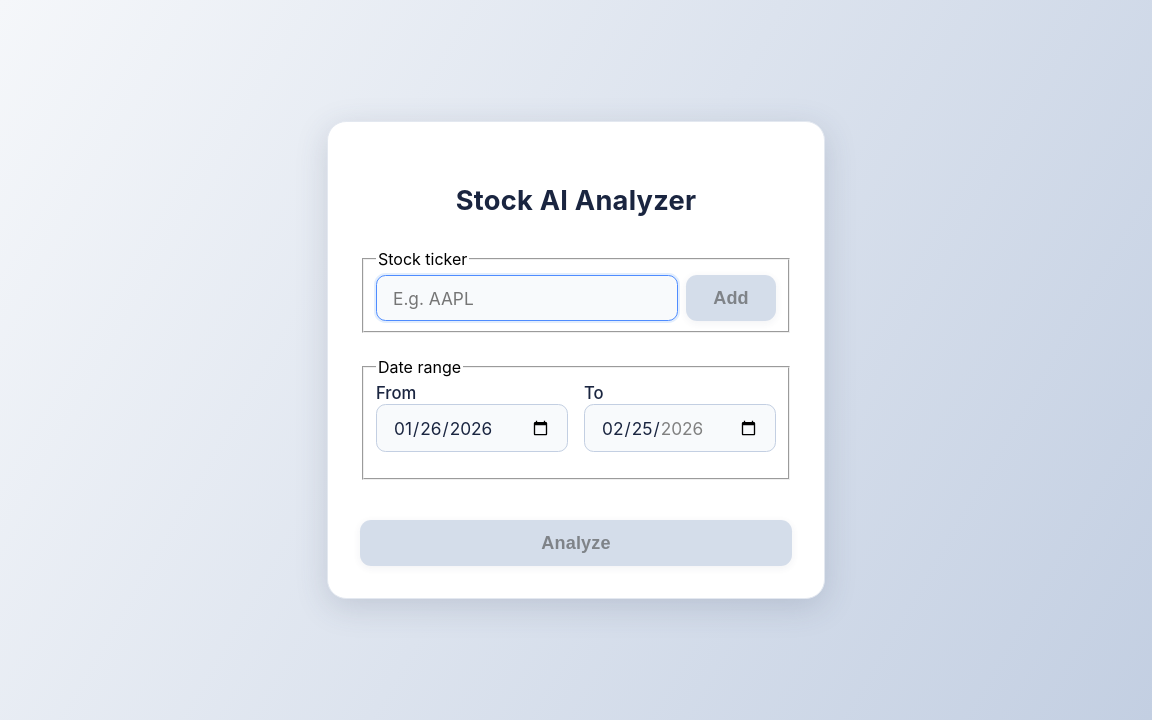
Test: App integration › shows error for invalid ticker
Type "123" into the field at (527, 298), box [376,275,678,321]
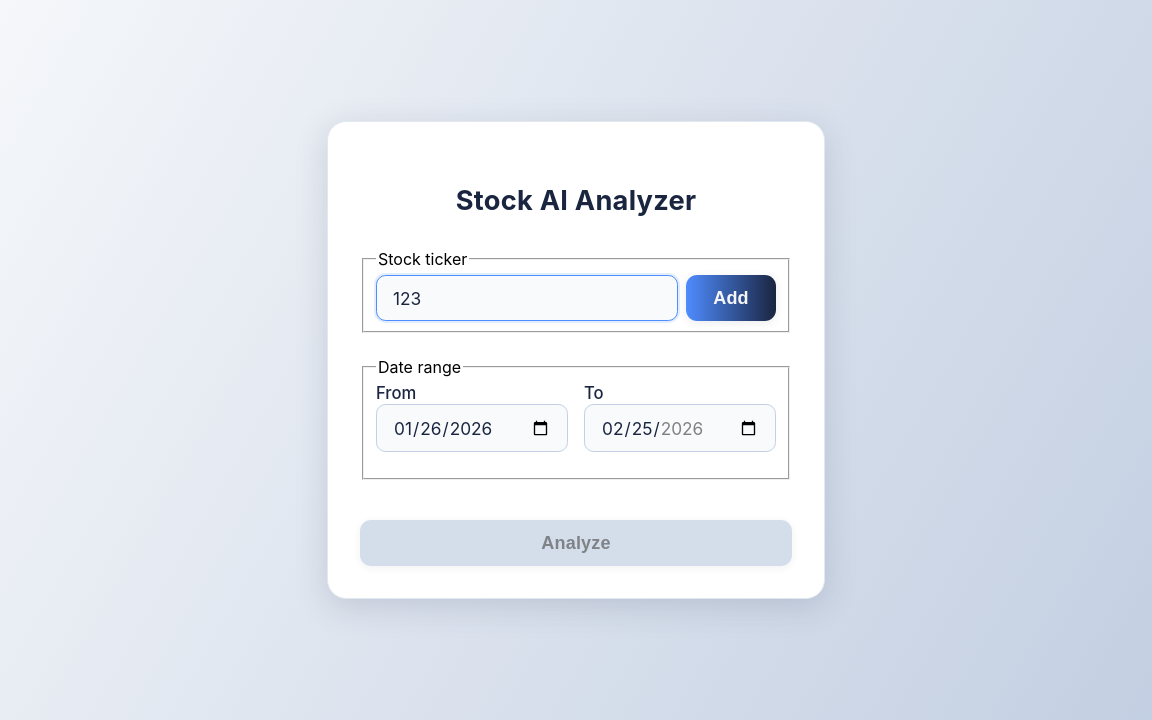
Click the button "Add" at (731, 298), box [686,275,776,321]
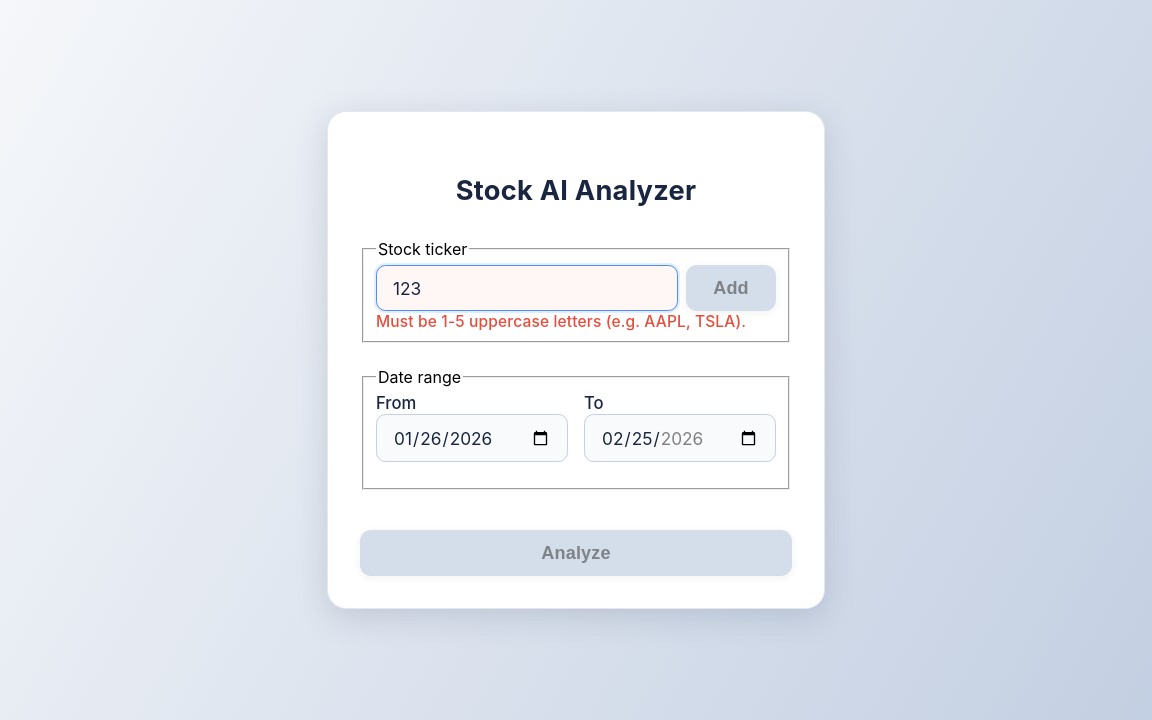
Expected: the message shows "Must be 1-5 uppercase letters", [376,312,746,331]
